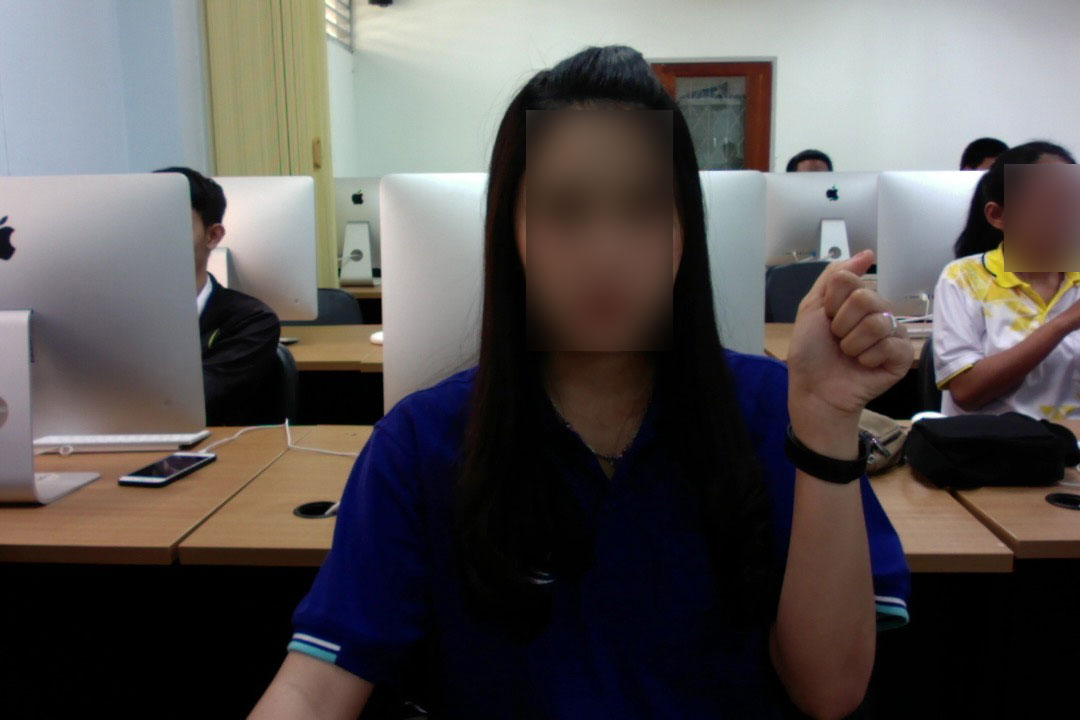or: (779, 234, 922, 441)
